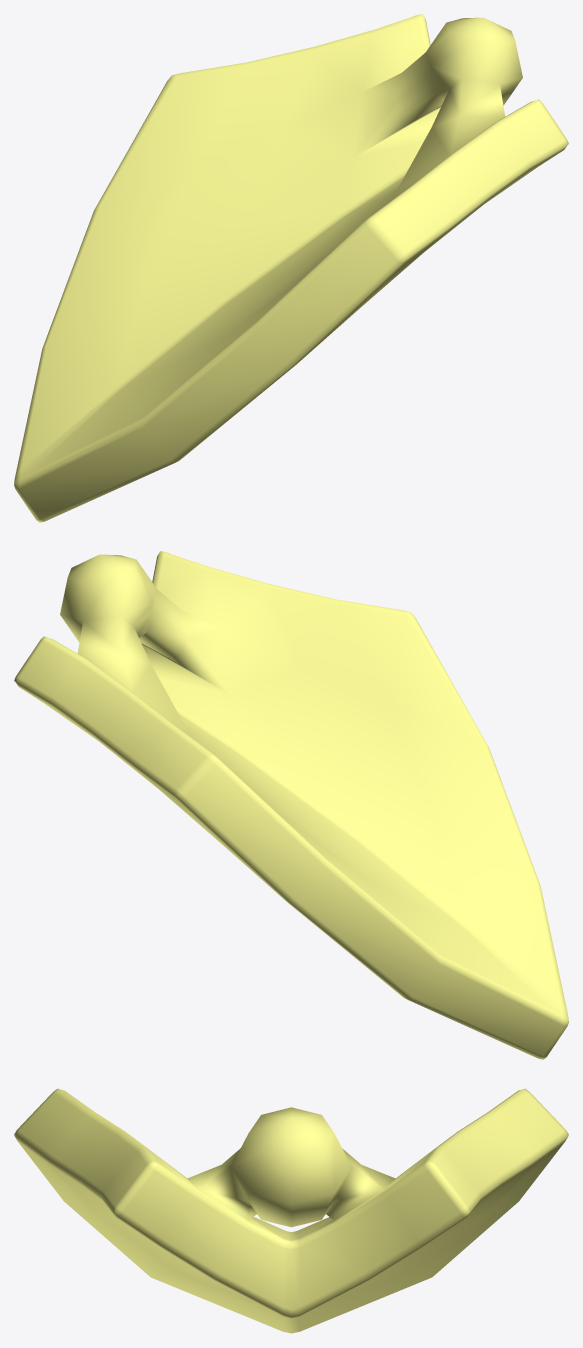
Rendered from Unit_Armor_Spine1.FBX.
The picture shows the model from 3 angles, top to bottom: view 1: azimuth 30°, elevation 25°; view 2: azimuth 150°, elevation 25°; view 3: azimuth 270°, elevation 25°; orthographic projection. The views are drawn at different scales.
Visible parts, largest first — view 1: Unit_Armor_Spine1; view 2: Unit_Armor_Spine1; view 3: Unit_Armor_Spine1.
Part boxes in pixels (bbox=[...]): Unit_Armor_Spine1: bbox=[14, 14, 568, 522]; Unit_Armor_Spine1: bbox=[14, 551, 568, 1059]; Unit_Armor_Spine1: bbox=[14, 1088, 568, 1333].
Bounding box in the file's own units: 19.87 × 14.98 × 16.02.
